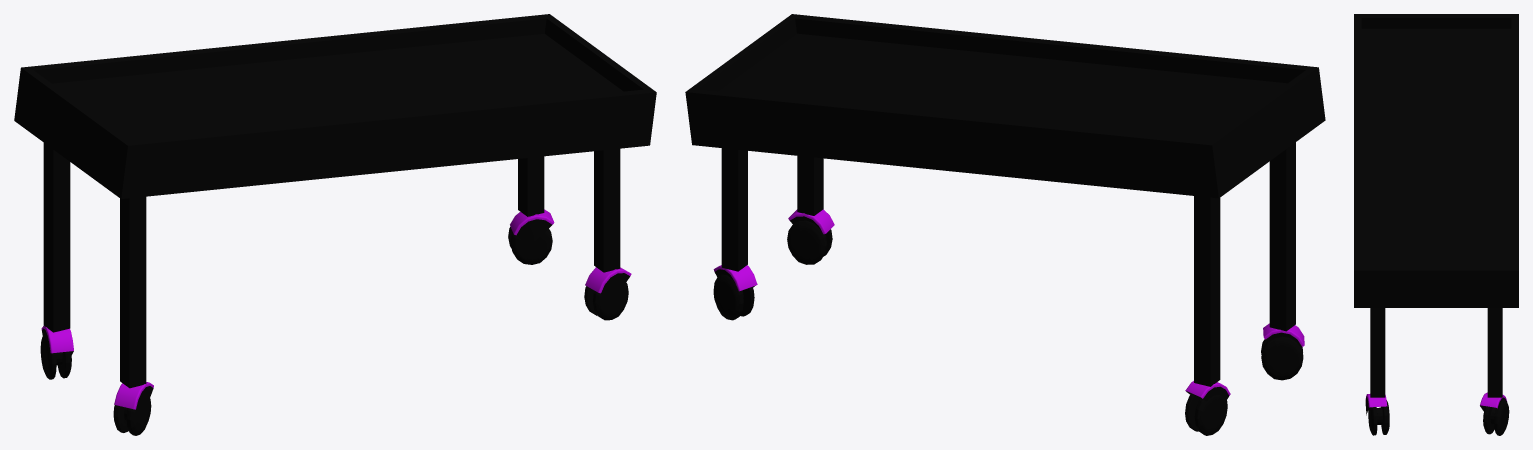
Rendered from operation_table.fbx.
The picture shows the model from 3 angles, left to right: view 1: azimuth 30°, elevation 25°; view 2: azimuth 150°, elevation 25°; view 3: azimuth 270°, elevation 25°; orthographic projection. The views are drawn at different scales.
Parts seen in each view (by area): view 1: operationtable; view 2: operationtable; view 3: operationtable.
Boxes of the visible parts, left/top/right/bottom form: operationtable: left=14, top=14, right=656, bottom=435; operationtable: left=685, top=14, right=1325, bottom=435; operationtable: left=1354, top=14, right=1518, bottom=435.
Bounding box in the file's own units: 2.89 × 1.57 × 1.
